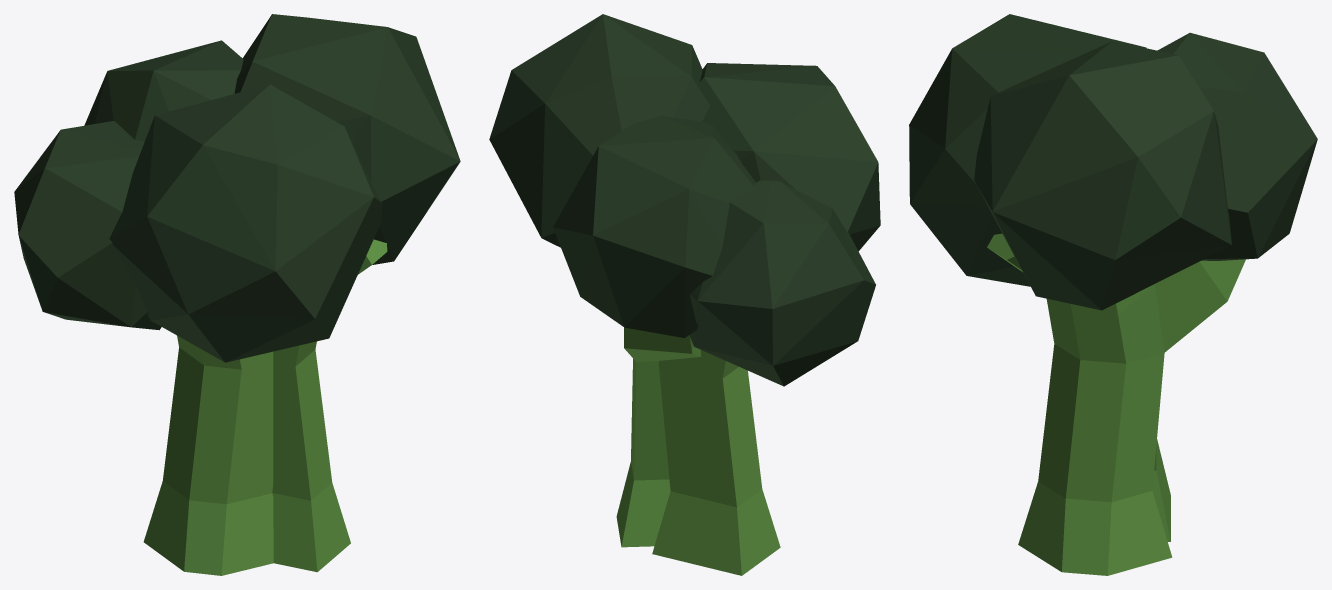
Rendered from Broccoli.glb.
The picture shows the model from 3 angles, left to right: view 1: azimuth 30°, elevation 25°; view 2: azimuth 150°, elevation 25°; view 3: azimuth 270°, elevation 25°; orthographic projection. The views are drawn at different scales.
Visible parts, largest first — view 1: Broccoli; view 2: Broccoli; view 3: Broccoli.
Boxes of the visible parts, x1,y1,x2,y2 form: Broccoli: (14, 14, 460, 575); Broccoli: (489, 14, 880, 575); Broccoli: (909, 14, 1317, 575).
Size of the model in its own units: 0.0827 by 0.099 by 0.0709.
